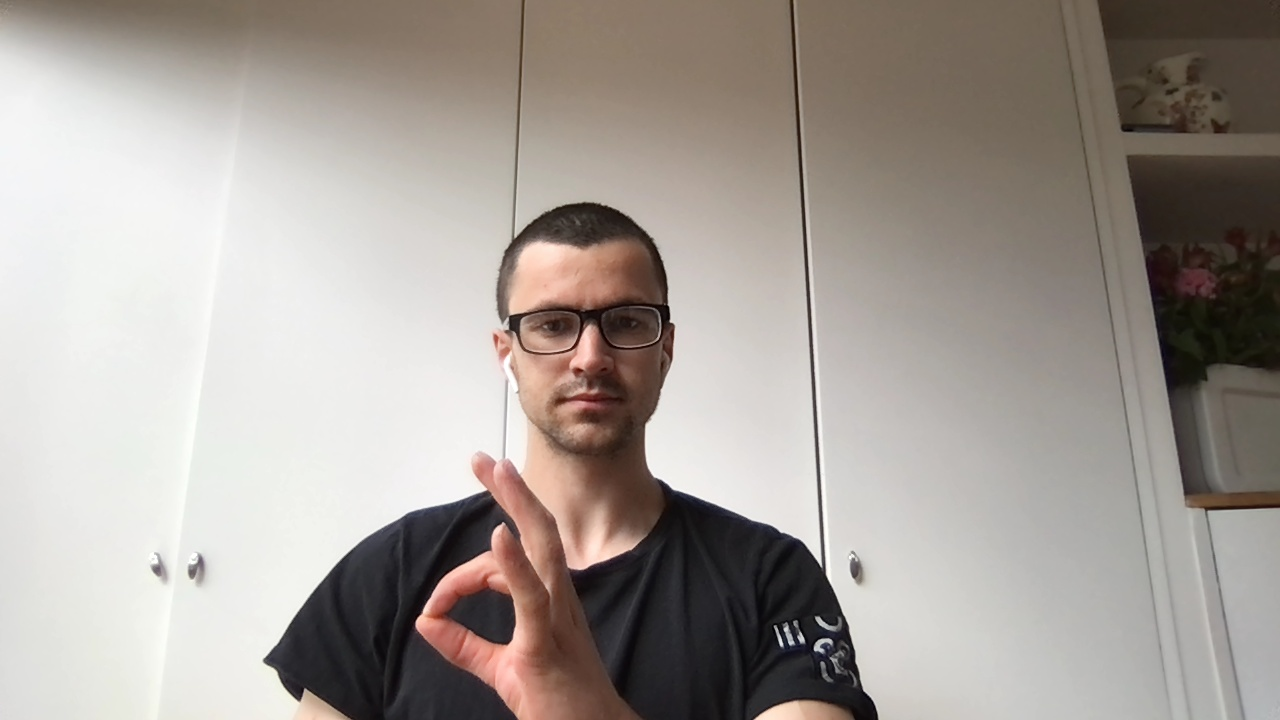thankYou: (415, 451, 625, 720)
